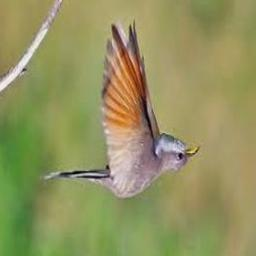Cuckoo: (39, 19, 200, 199)
